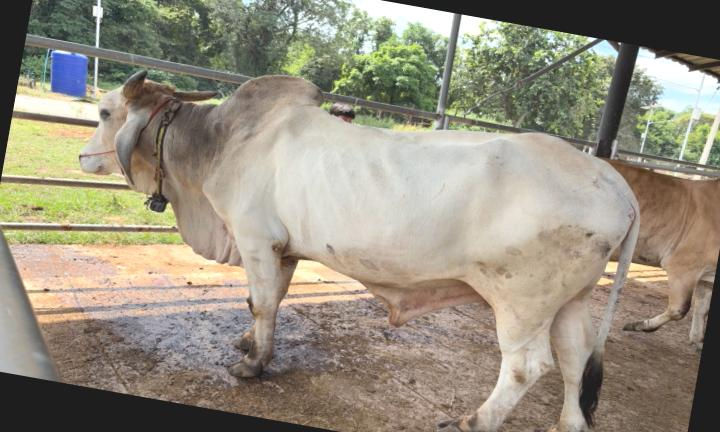Brahman: (81, 72, 640, 432)
